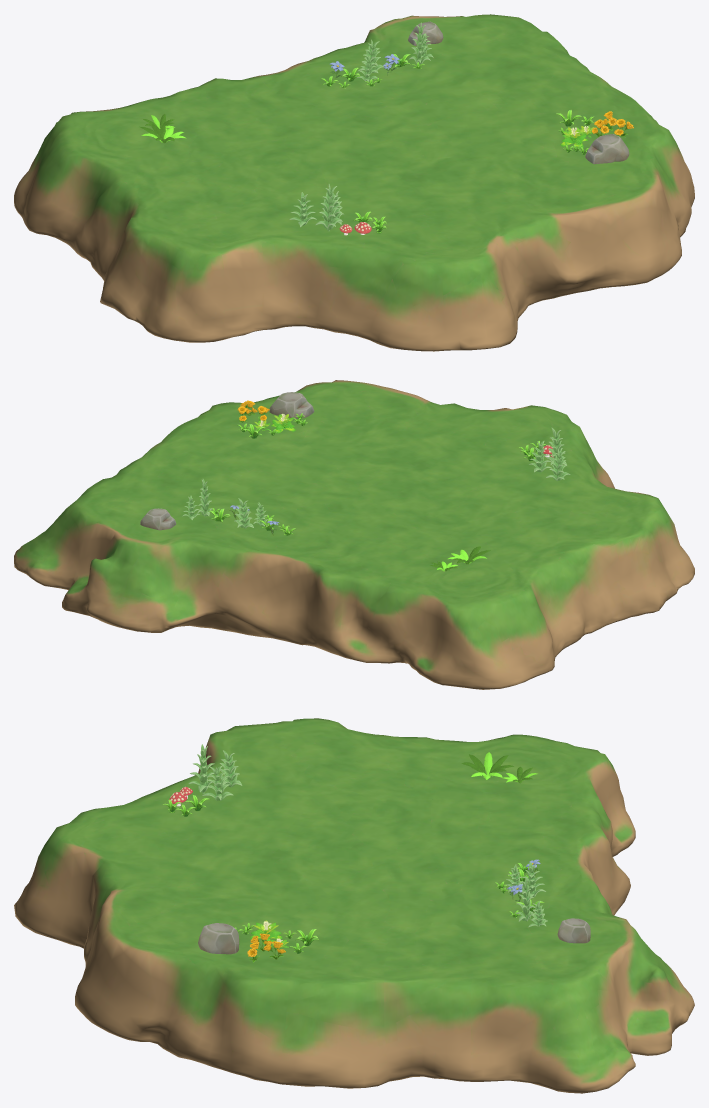
File: island_6.glb
3 renders of one model, top to bottom at view 1: azimuth 30°, elevation 25°; view 2: azimuth 150°, elevation 25°; view 3: azimuth 270°, elevation 25°, orthographic. The views are drawn at different scales.
Visible parts, largest first — view 1: Mesh_0.002, Mesh_0.033, Mesh_0.026; view 2: Mesh_0.002, Mesh_0.033, Mesh_0.037; view 3: Mesh_0.002, Mesh_0.033, Mesh_0.037, Mesh_0.018.
Part boxes in pixels (x1,y1,x2,y2): Mesh_0.002: (14,14,694,351); Mesh_0.033: (585,134,629,164); Mesh_0.026: (315,184,342,231); Mesh_0.002: (14,380,694,689); Mesh_0.033: (269,392,314,419); Mesh_0.037: (140,508,176,530); Mesh_0.002: (14,718,694,1093); Mesh_0.033: (198,923,239,954); Mesh_0.037: (557,918,590,943); Mesh_0.018: (461,752,513,780).
Size of the model in its own units: 4.76 by 1.01 by 4.37.
Materials: 9 (9 with a texture image).
